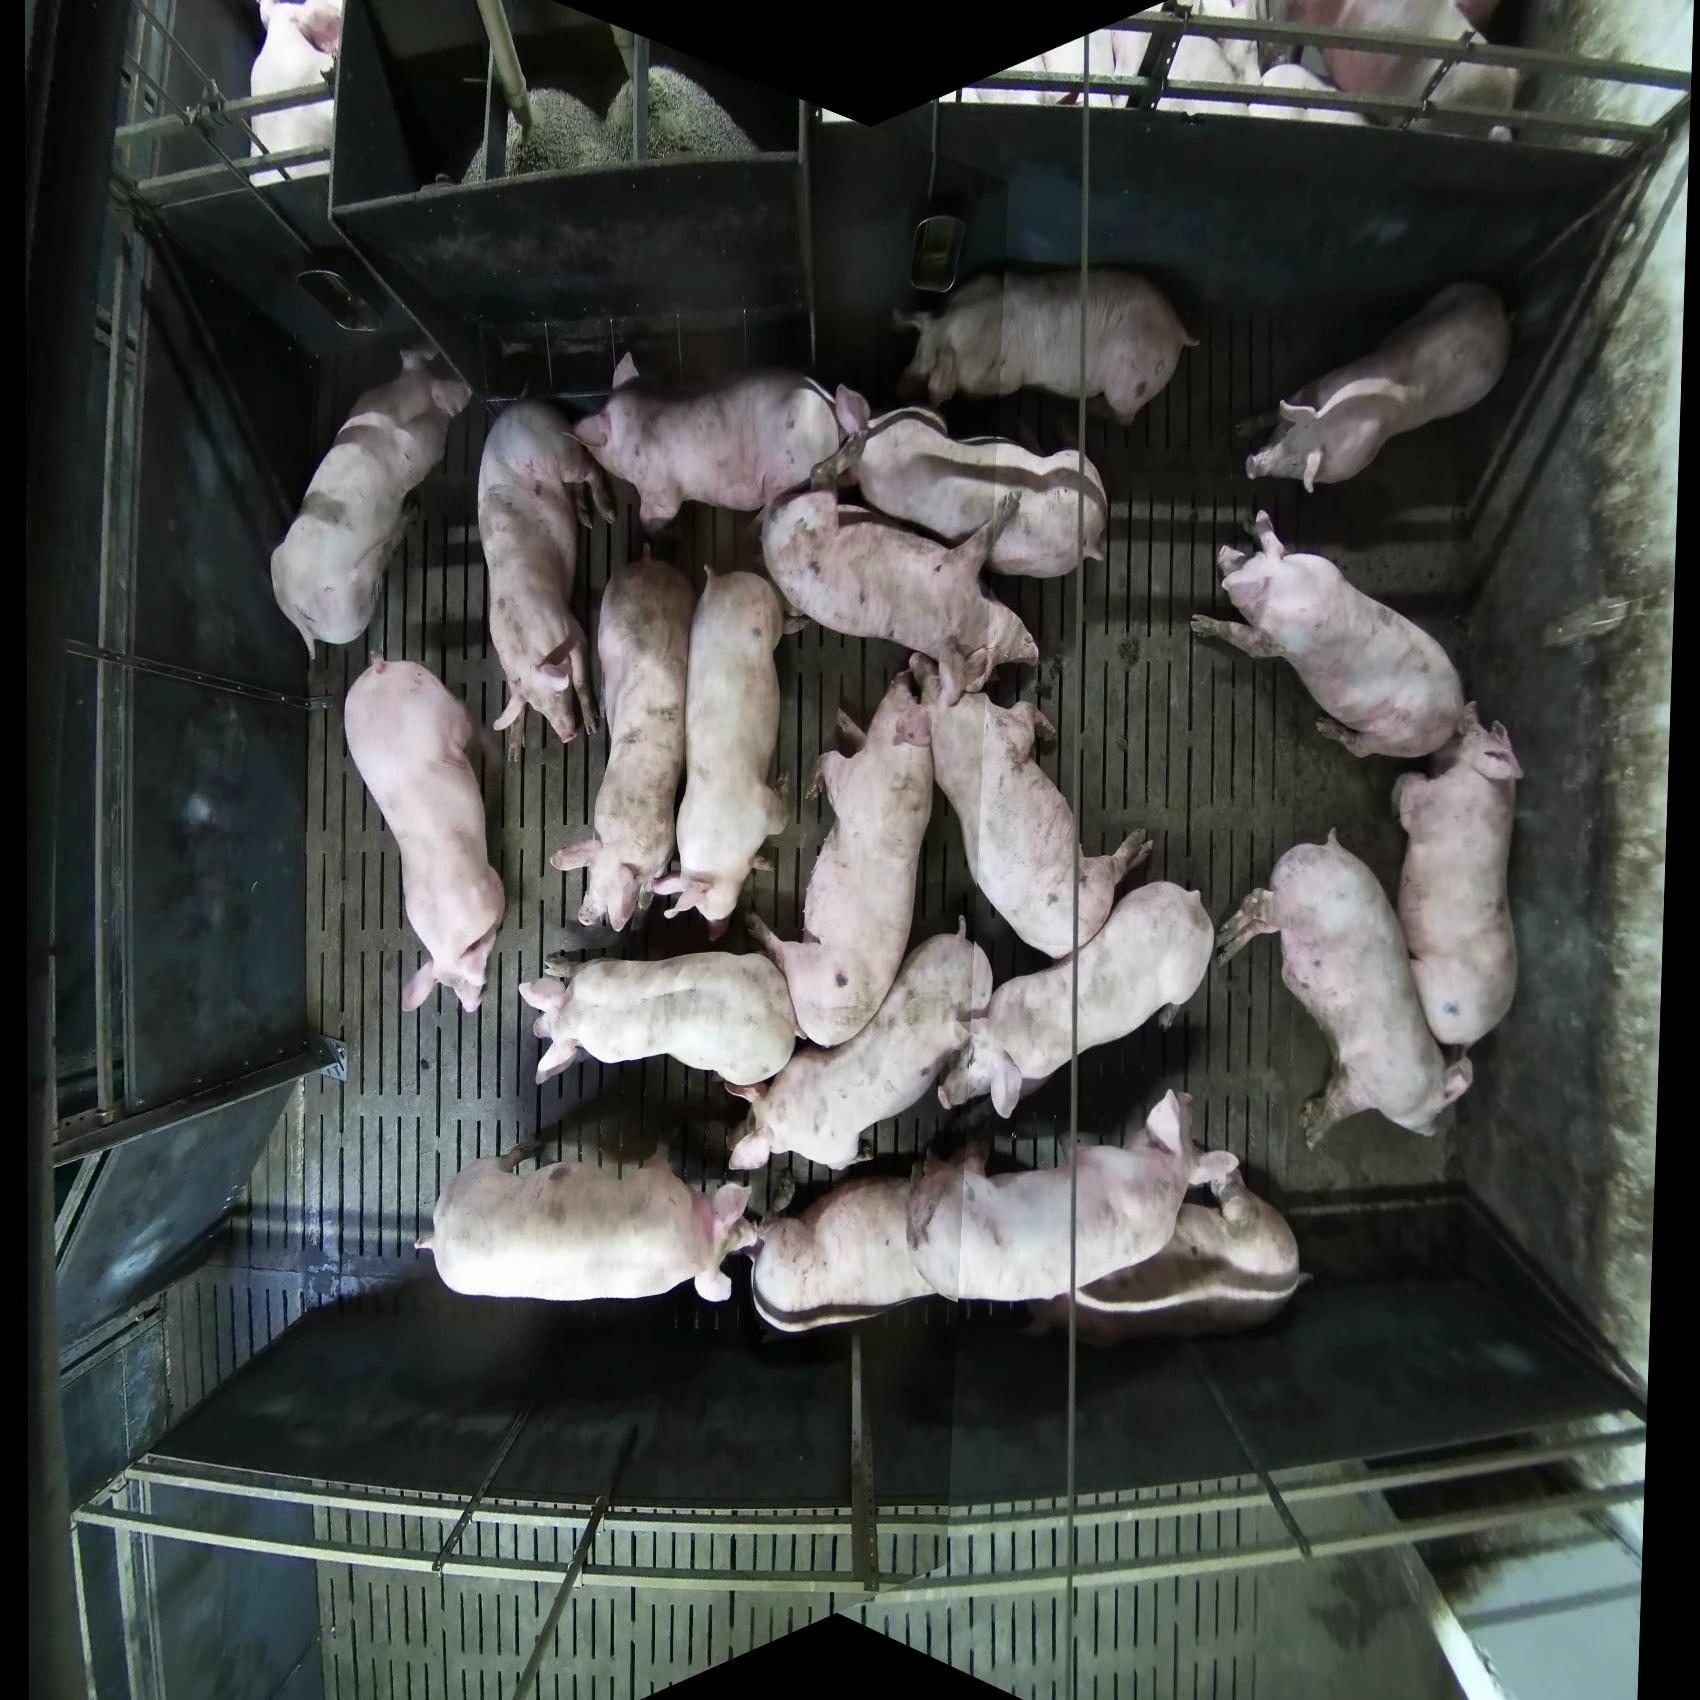pig: (1214, 827, 1474, 1150), (746, 657, 939, 1049), (918, 645, 1155, 964), (906, 1088, 1241, 1305), (1189, 509, 1470, 763), (722, 915, 993, 1172), (936, 880, 1216, 1121), (269, 347, 473, 663), (760, 486, 1041, 702), (342, 652, 508, 1015), (1244, 279, 1513, 497), (414, 1138, 753, 1305), (548, 553, 696, 934), (573, 353, 870, 532), (1023, 1161, 1312, 1345), (813, 403, 1110, 581), (475, 397, 616, 758), (652, 567, 792, 929), (894, 265, 1202, 427), (1392, 704, 1526, 1049), (517, 948, 799, 1090), (1287, 2, 1524, 139), (747, 1171, 940, 1336), (246, 2, 346, 188), (1059, 25, 1252, 115), (602, 64, 763, 165), (1249, 61, 1373, 128)
